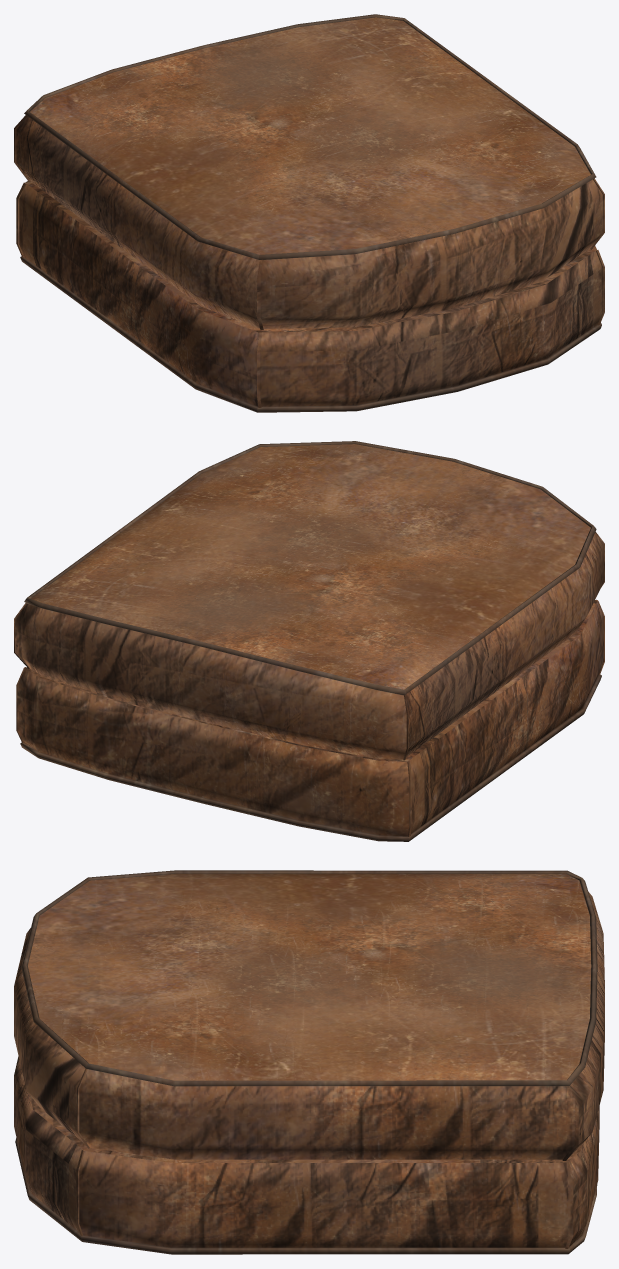
The model's file is LooseCusionA.fbx.
3 views of the same model, one above another, from view 1: azimuth 30°, elevation 25°; view 2: azimuth 150°, elevation 25°; view 3: azimuth 270°, elevation 25° (orthographic). The views are drawn at different scales.
Visible parts, largest first — view 1: LooseCushionA; view 2: LooseCushionA; view 3: LooseCushionA.
Boxes of the visible parts, box(x1,y1,x2,y2) form: LooseCushionA: box(14, 14, 604, 412); LooseCushionA: box(14, 441, 604, 841); LooseCushionA: box(14, 870, 604, 1254).
Bounding box in the file's own units: 82.77 × 32.52 × 94.5.
